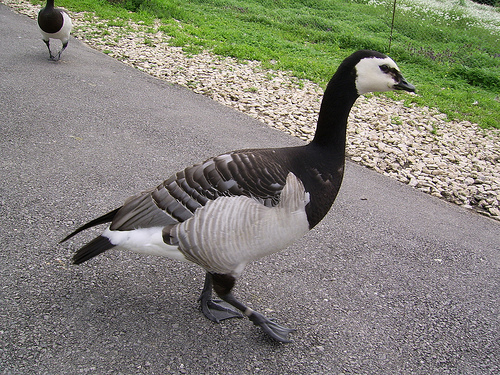duck: (51, 30, 434, 360)
